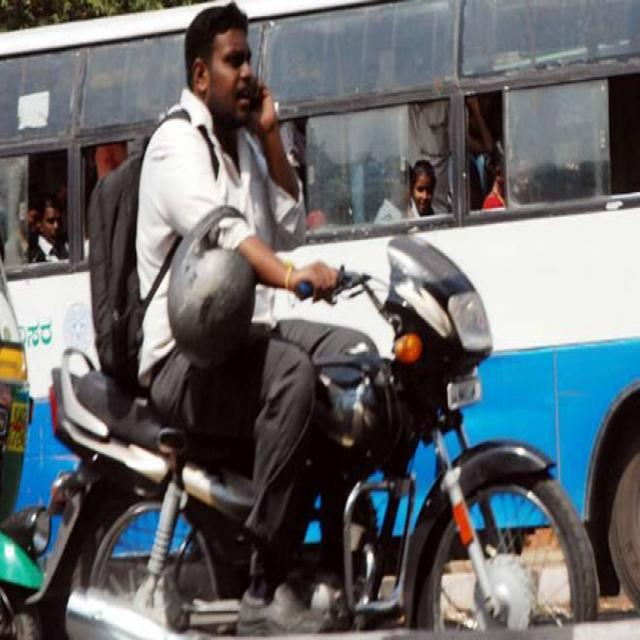Not Wearing Helmet: (177, 0, 261, 153)
Usage Of Phone While Riding: (155, 2, 319, 229)
